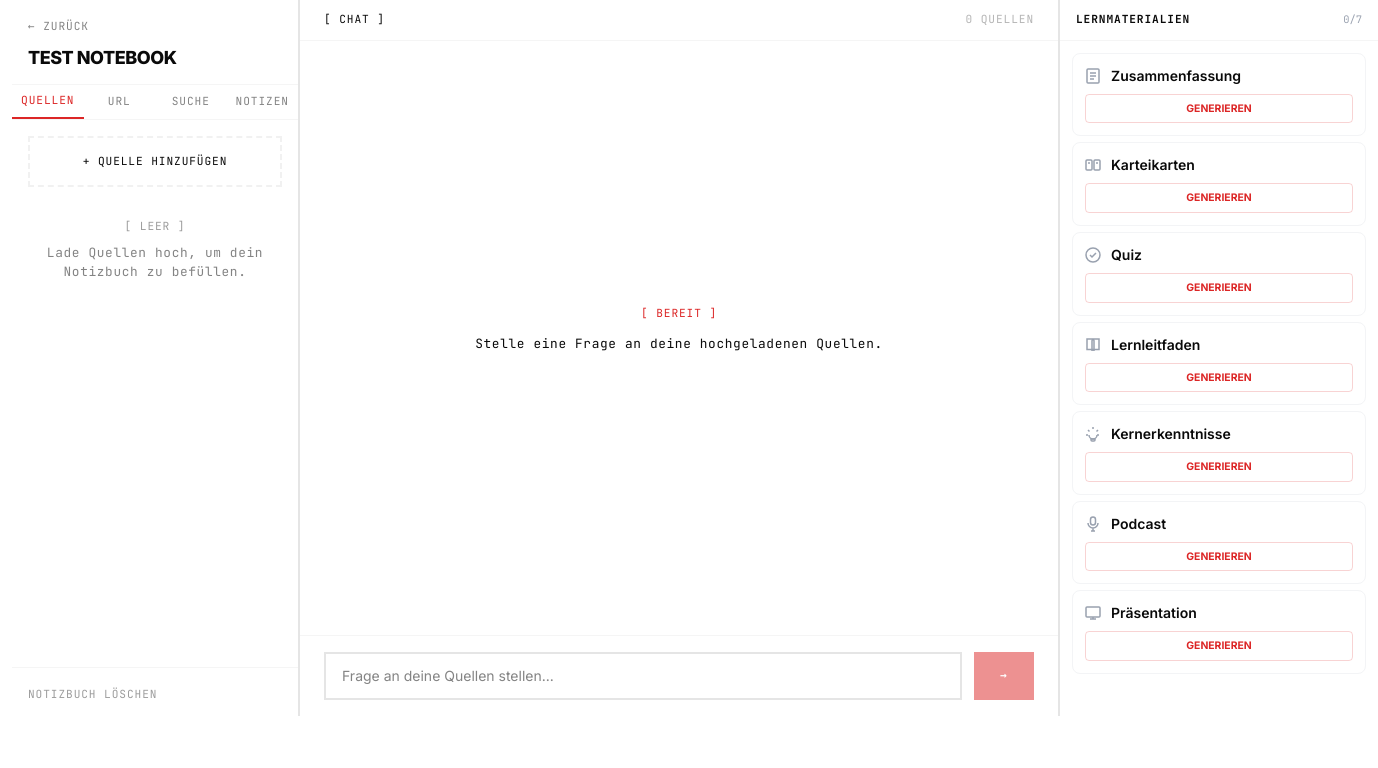
Test: NotebookPage - tabs › renders notes tab with create button
Click the button "NOTIZEN" at point(262, 102), box [226, 85, 298, 119]
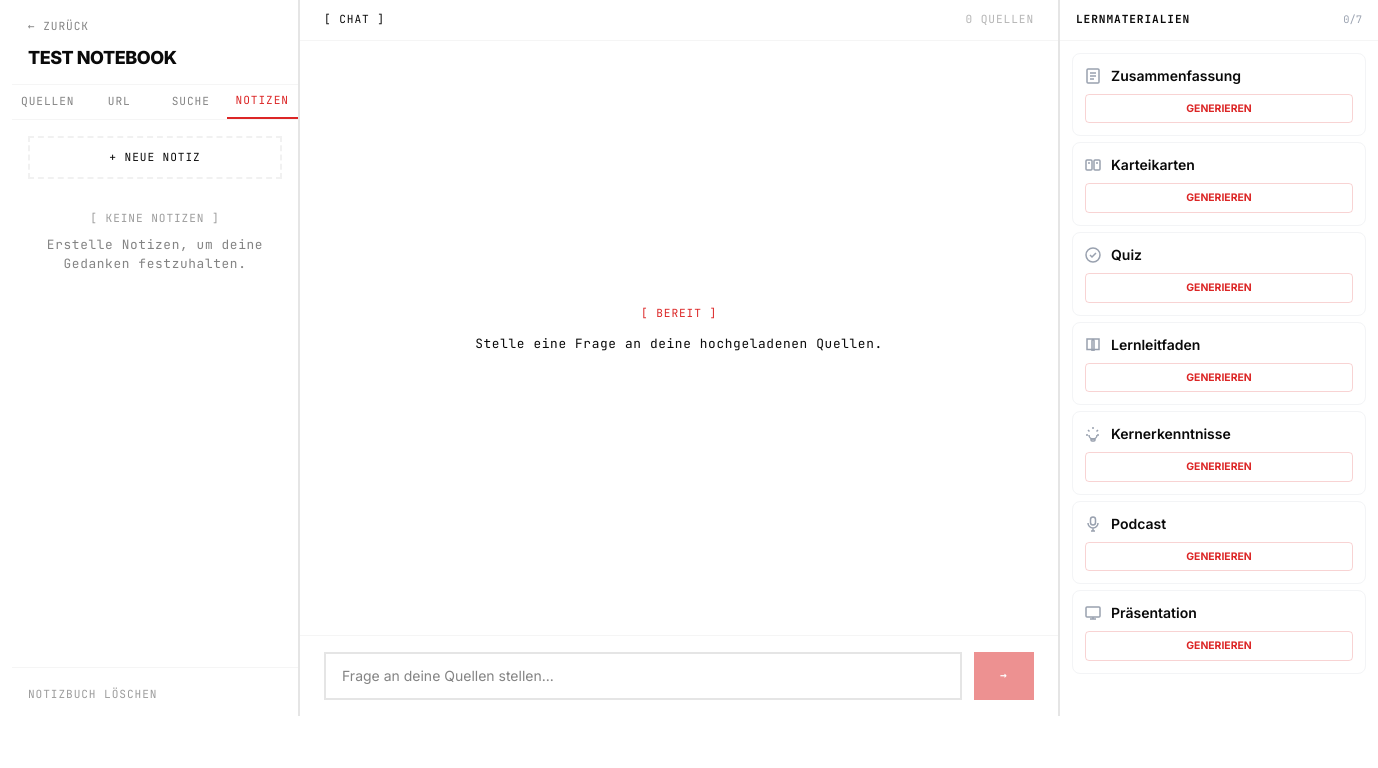
Check: the button "+ NEUE NOTIZ" is shown, box [28, 136, 282, 179]
